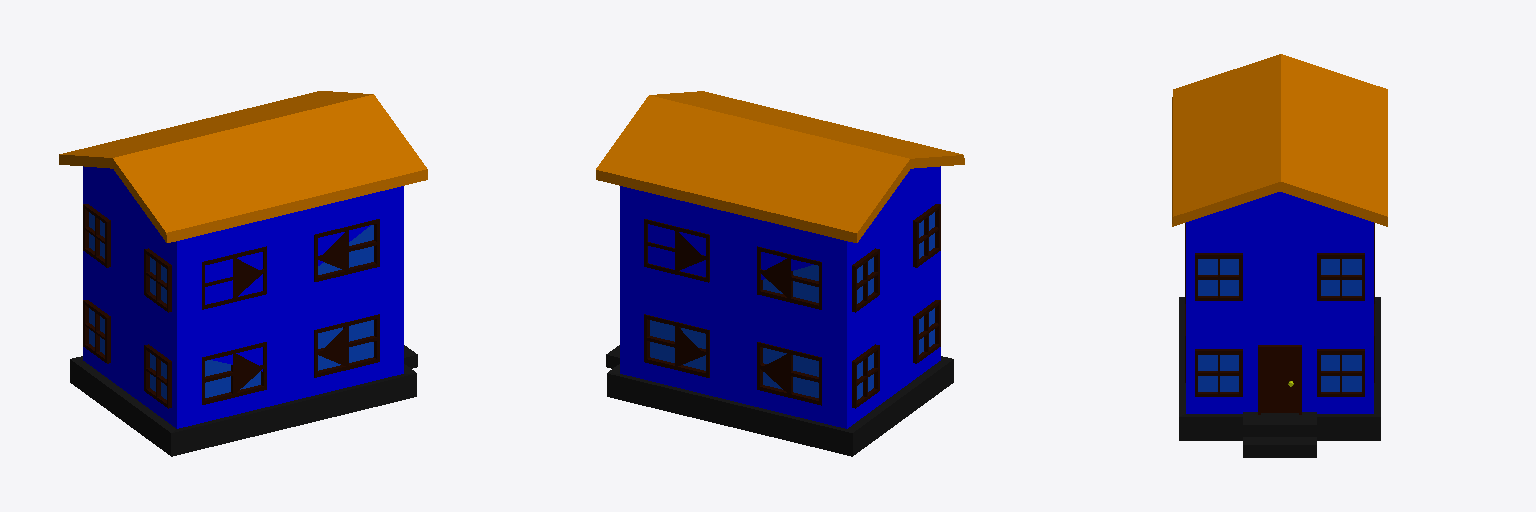
File: Tallhouse 1.obj
3 renders of one model, left to right at view 1: azimuth 30°, elevation 25°; view 2: azimuth 150°, elevation 25°; view 3: azimuth 270°, elevation 25°, orthographic.
Visible parts, largest first — view 1: Tallhouse, roof, Bwindow, Bwindow.001, window.002, window.001; view 2: Tallhouse, roof, Bwindow, Bwindow.001, window.002, window.001; view 3: Tallhouse, roof, window.001, window.002, Cube, Door.001.
Part boxes in pixels (bbox=[...]): Tallhouse: bbox=[70, 166, 416, 456]; roof: bbox=[59, 91, 427, 242]; Bwindow: bbox=[202, 314, 379, 404]; Bwindow.001: bbox=[202, 219, 379, 309]; window.002: bbox=[83, 204, 171, 312]; window.001: bbox=[83, 300, 171, 408]; Tallhouse: bbox=[607, 166, 953, 456]; roof: bbox=[596, 91, 964, 242]; Bwindow: bbox=[644, 314, 821, 405]; Bwindow.001: bbox=[644, 219, 821, 309]; window.002: bbox=[852, 204, 940, 312]; window.001: bbox=[852, 300, 940, 408]; Tallhouse: bbox=[1179, 192, 1380, 440]; roof: bbox=[1172, 54, 1387, 226]; window.001: bbox=[1195, 349, 1364, 396]; window.002: bbox=[1195, 253, 1364, 300]; Cube: bbox=[1243, 412, 1316, 457]; Door.001: bbox=[1258, 345, 1301, 414].
Size of the model in its own units: 26.44 by 23.39 by 17.26.